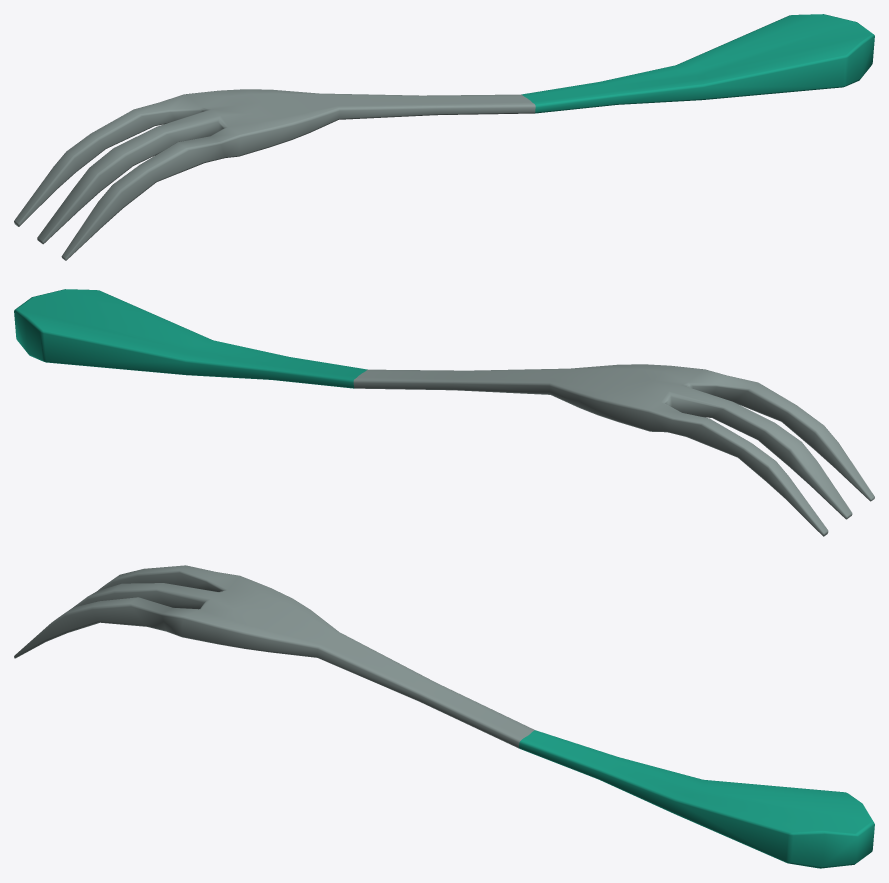
The model's file is SM_Dishes_10.fbx.
3 renders of one model, top to bottom at view 1: azimuth 30°, elevation 25°; view 2: azimuth 150°, elevation 25°; view 3: azimuth 330°, elevation 25°, orthographic.
Visible parts, largest first — view 1: SM_Dishes_10; view 2: SM_Dishes_10; view 3: SM_Dishes_10.
Part boxes in pixels (left/top/right/bottom): SM_Dishes_10: left=14, top=14, right=874, bottom=260; SM_Dishes_10: left=14, top=289, right=874, bottom=536; SM_Dishes_10: left=14, top=565, right=874, bottom=868.
Bounding box in the file's own units: 16.29 × 1.98 × 2.01.
1 material, 1 textured.
